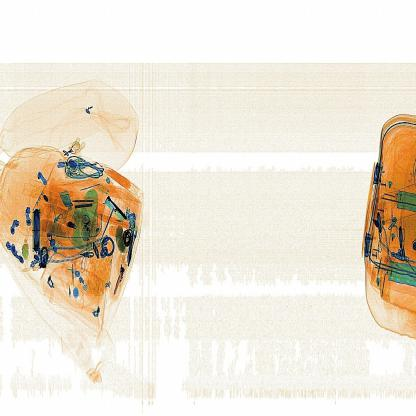scissors: (24, 196, 48, 261)
